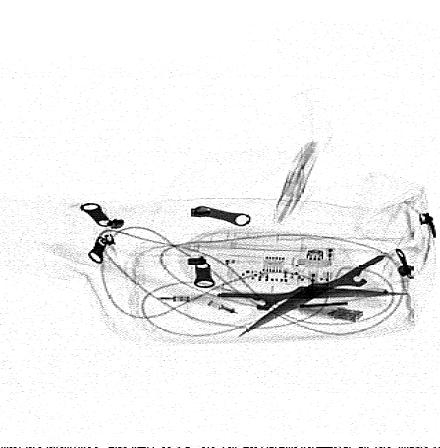Scissors: (182, 244, 435, 342)
